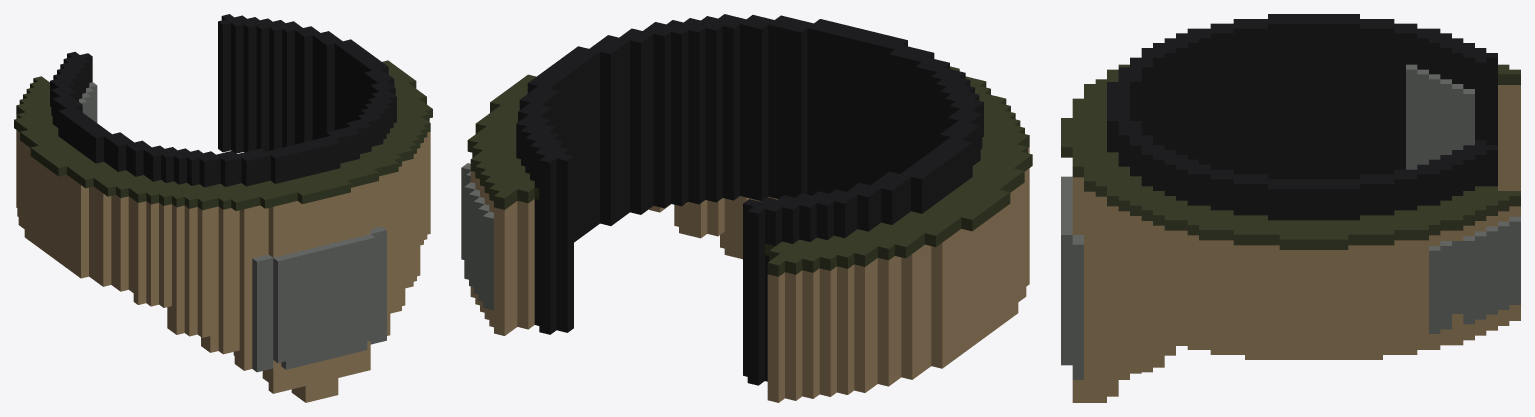
File: throat_guard_ballistic.glb
The picture shows the model from 3 angles, left to right: view 1: azimuth 30°, elevation 25°; view 2: azimuth 150°, elevation 25°; view 3: azimuth 270°, elevation 25°; orthographic projection. The views are drawn at different scales.
Visible parts, largest first — view 1: throat_guard_ballistic:compound; view 2: throat_guard_ballistic:compound; view 3: throat_guard_ballistic:compound.
Boxes of the visible parts, bbox=[...] form: throat_guard_ballistic:compound: bbox=[14, 14, 432, 402]; throat_guard_ballistic:compound: bbox=[461, 14, 1032, 402]; throat_guard_ballistic:compound: bbox=[1061, 14, 1520, 402].
Size of the model in its own units: 0.176 by 0.112 by 0.16.
